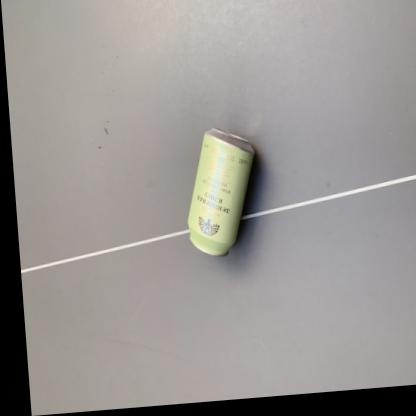trash: (188, 128, 254, 255)
